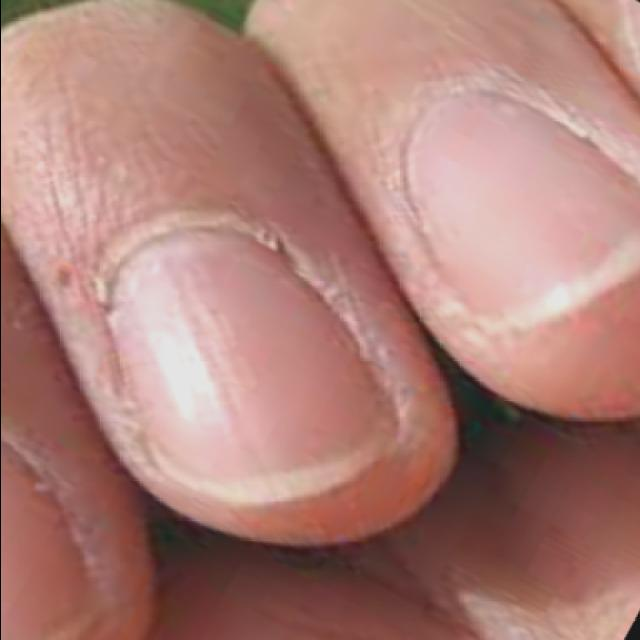Nail: (106, 231, 398, 506), (414, 90, 640, 332)
